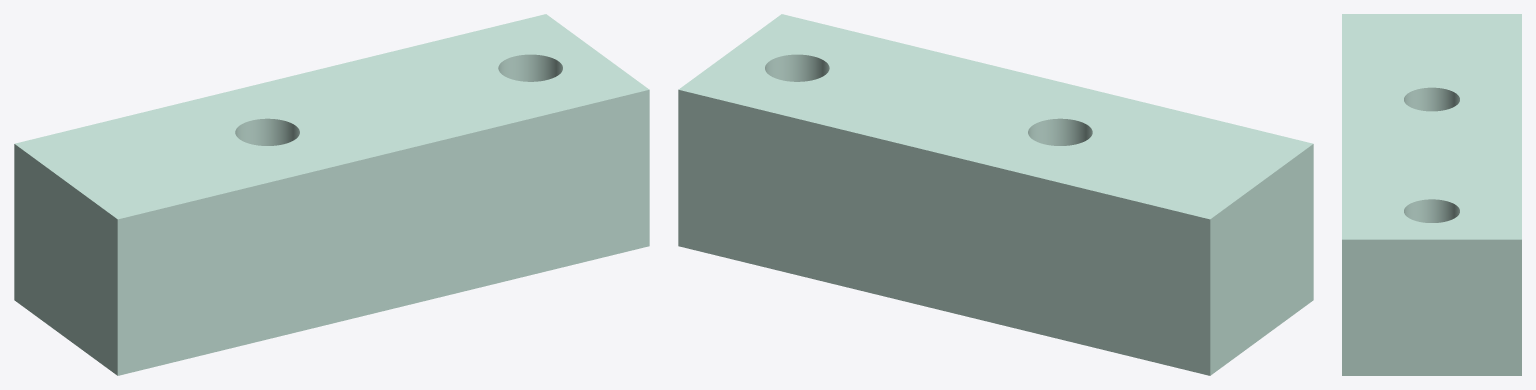
3 renders of one model, left to right at view 1: azimuth 30°, elevation 25°; view 2: azimuth 150°, elevation 25°; view 3: azimuth 270°, elevation 25°, orthographic. The views are drawn at different scales.
Visible parts, largest first — view 1: Renderer Node; view 2: Renderer Node; view 3: Renderer Node.
Part boxes in pixels (x1,y1,x2,y2): Renderer Node: (14, 14, 649, 375); Renderer Node: (678, 14, 1313, 375); Renderer Node: (1342, 14, 1521, 375).
Bounding box in the file's own units: 0.75 × 0.2109 × 0.2526.
